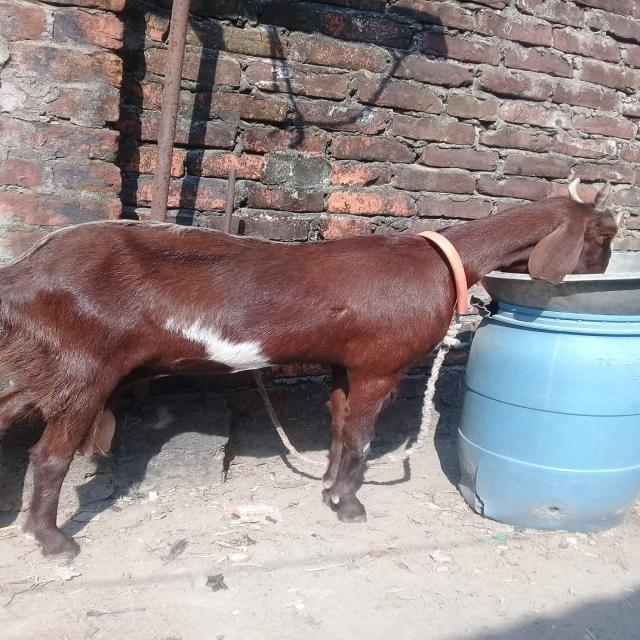Goat: (1, 176, 622, 561)
